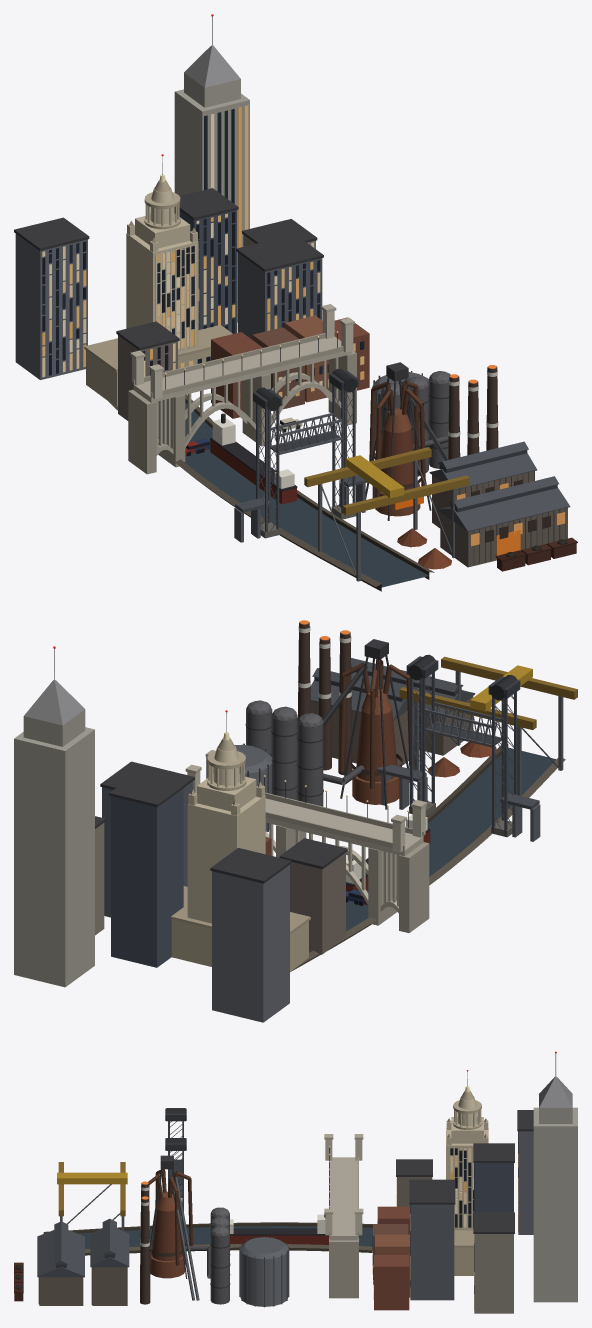
File: cleveland.glb
3 renders of one model, top to bottom at view 1: azimuth 30°, elevation 25°; view 2: azimuth 150°, elevation 25°; view 3: azimuth 270°, elevation 25°, orthographic. The views are drawn at different scales.
Parts seen in each view (by area): view 1: skyline, mill, archbridge, terminal, river, liftbridge; view 2: skyline, mill, archbridge, terminal, liftbridge, river; view 3: skyline, mill, archbridge, terminal, river, liftbridge.
Part boxes in pixels (<box>): skyline: <box>14,14,369,420</box>; mill: <box>304,362,577,581</box>; archbridge: <box>128,304,356,474</box>; terminal: <box>84,154,232,406</box>; river: <box>107,394,434,591</box>; liftbridge: <box>234,369,374,542</box>; skyline: <box>14,646,347,1022</box>; mill: <box>206,620,577,831</box>; archbridge: <box>185,750,429,932</box>; terminal: <box>171,710,310,971</box>; liftbridge: <box>377,654,540,841</box>; river: <box>291,744,565,971</box>; skyline: <box>372,1051,577,1313</box>; mill: <box>14,1155,289,1307</box>; archbridge: <box>324,1134,363,1298</box>; terminal: <box>446,1070,488,1275</box>; river: <box>43,1214,372,1255</box>; liftbridge: <box>165,1108,186,1236</box>.
Size of the model in its own units: 55.55 by 61.55 by 128.
